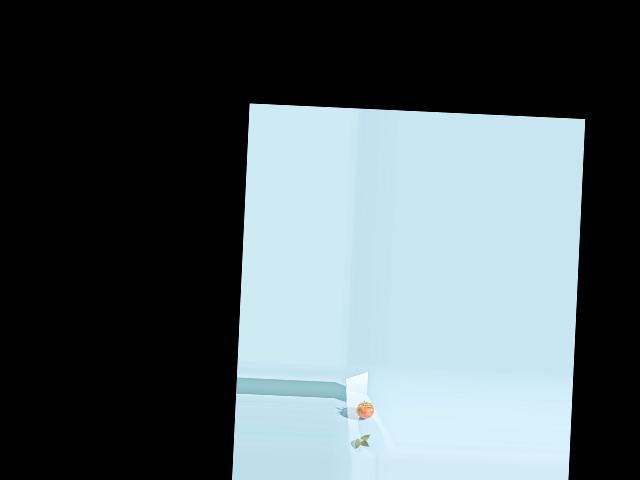tomato: (355, 401, 374, 418)
